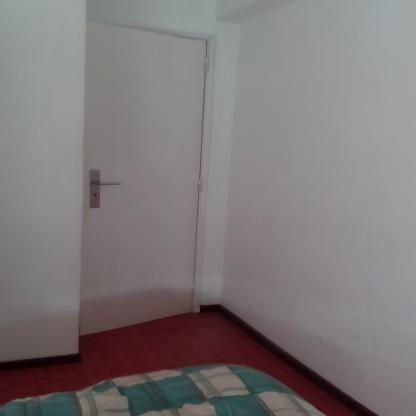door: (88, 27, 199, 318)
hinged: (202, 52, 212, 75), (195, 177, 204, 194), (190, 282, 198, 300)
lever: (91, 180, 125, 188)
